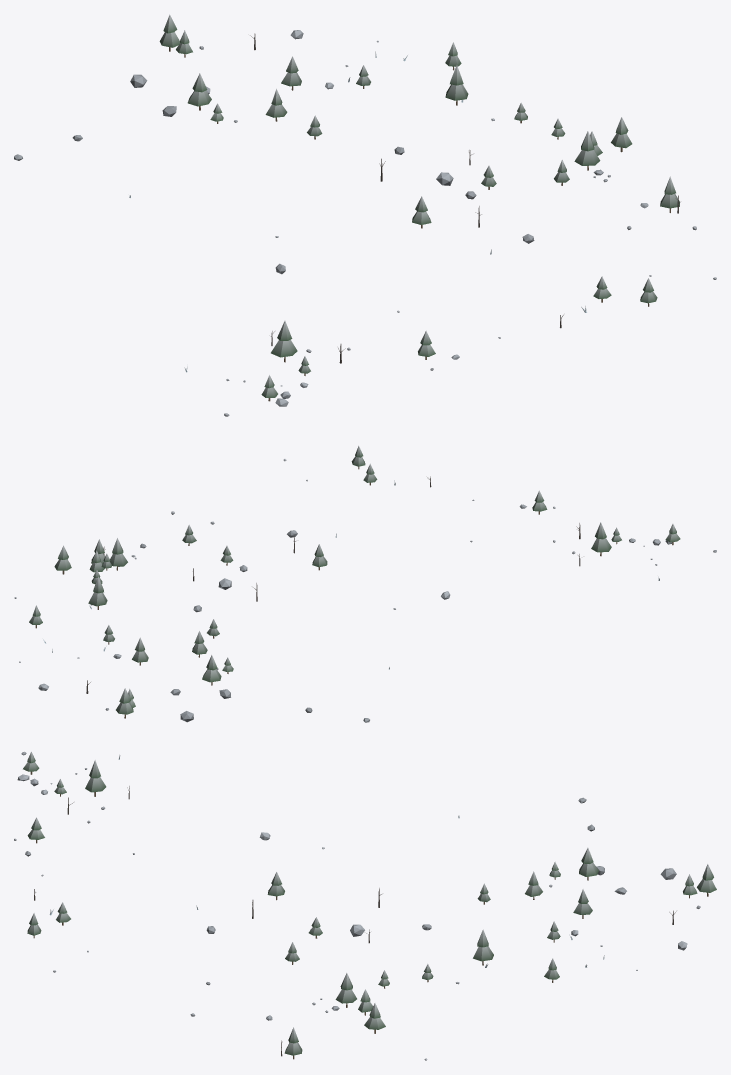
Rendered from frost_land_scatter_c19_12_lod1.glb.
3 views of the same model, one above another, from view 1: azimuth 30°, elevation 25°; view 2: azimuth 150°, elevation 25°; view 3: azimuth 270°, elevation 25° (orthographic). The views are drawn at different scales.
Parts seen in each view (by area): view 1: frost_land_scatter_c19_12_lod1; view 2: frost_land_scatter_c19_12_lod1; view 3: frost_land_scatter_c19_12_lod1.
Part boxes in pixels (bbox=[...]): frost_land_scatter_c19_12_lod1: bbox=[14, 14, 716, 416]; frost_land_scatter_c19_12_lod1: bbox=[14, 445, 716, 722]; frost_land_scatter_c19_12_lod1: bbox=[14, 751, 716, 1060].
Size of the model in its own units: 236 by 34.64 by 259.
